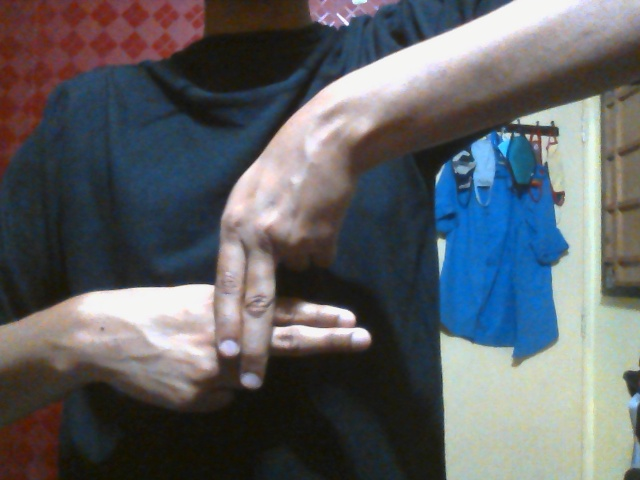F: (94, 127, 374, 415)
